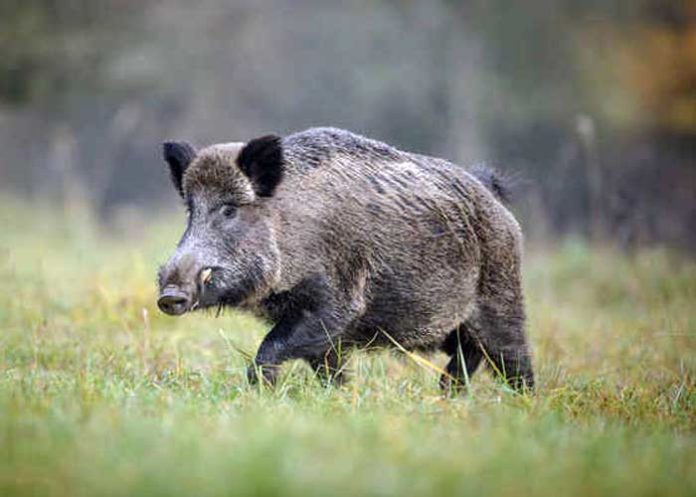wild boar: (139, 110, 585, 440)
